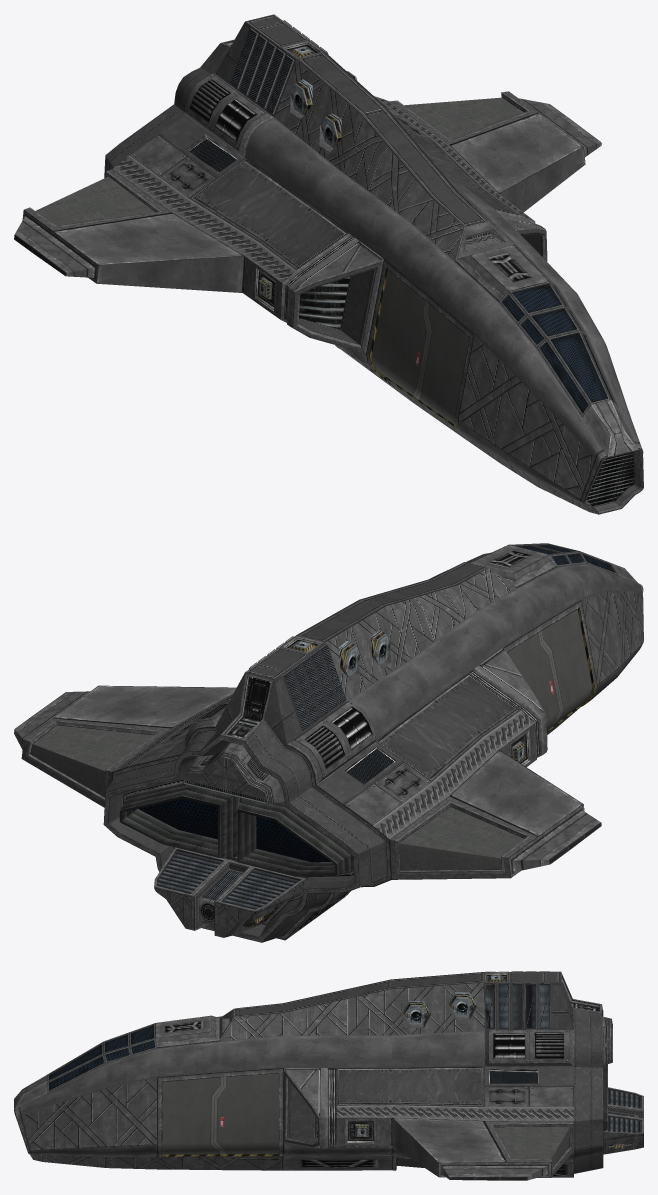
Rendered from KRT-G7 Goshawk.fbx.
3 views of the same model, one above another, from view 1: azimuth 30°, elevation 25°; view 2: azimuth 150°, elevation 25°; view 3: azimuth 270°, elevation 25° (orthographic). The views are drawn at different scales.
Parts seen in each view (by area): view 1: Hull1, Hull3, Hull2, Cargohold, Hull4, Hull5, Metal, Equip, Windows, Grill2, Mount; view 2: Hull1, Hull3, Hull2, Equip, Metal, Engine, Hull4, Cargohold, Hull5, Grill, Mount, Windows; view 3: Hull1, Hull2, Hull3, Cargohold, Hull4, Equip, Hull5, Metal, Windows, Mount, Engine.
Part boxes in pixels (box(x1,y1,x2,y2)): Hull1: box(14, 39, 643, 514); Hull3: box(14, 14, 616, 413); Hull2: box(274, 59, 595, 513); Cargohold: box(372, 270, 469, 425); Hull4: box(130, 73, 431, 319); Hull5: box(112, 96, 534, 282); Metal: box(35, 97, 523, 225); Equip: box(186, 20, 353, 319); Windows: box(502, 284, 613, 413); Grill2: box(299, 233, 634, 506); Mount: box(259, 46, 522, 429); Hull1: box(14, 543, 643, 942); Hull3: box(106, 543, 617, 942); Hull2: box(154, 568, 643, 937); Equip: box(123, 636, 539, 924); Metal: box(30, 725, 524, 870); Engine: box(119, 783, 354, 876); Hull4: box(130, 629, 536, 903); Cargohold: box(508, 609, 592, 730); Hull5: box(113, 694, 534, 930); Grill: box(138, 798, 330, 862); Mount: box(243, 608, 594, 927); Windows: box(517, 545, 614, 572); Hull1: box(14, 972, 643, 1180); Hull2: box(22, 982, 634, 1170); Hull3: box(48, 971, 641, 1180); Cargohold: box(162, 1073, 278, 1154); Hull4: box(336, 1004, 637, 1145); Equip: box(328, 971, 641, 1147); Hull5: box(224, 1015, 643, 1153); Metal: box(494, 1126, 570, 1166); Windows: box(49, 1025, 155, 1090); Mount: box(162, 975, 625, 1156); Engine: box(603, 1064, 607, 1130).
Size of the model in its own units: 564 by 253 by 762.
13 materials, 13 textured.
